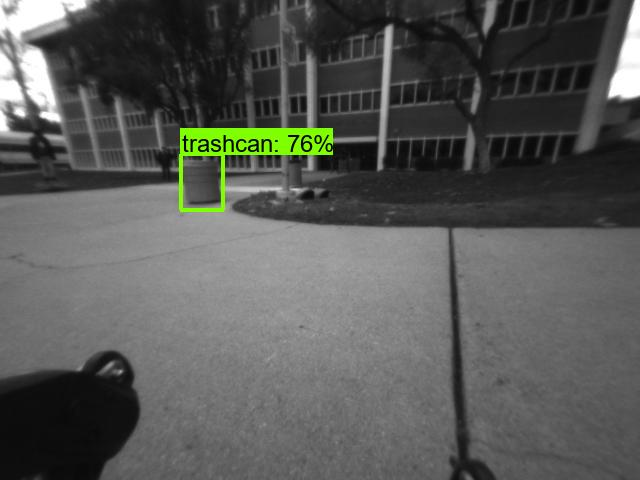trashcan: (181, 161, 225, 205)
